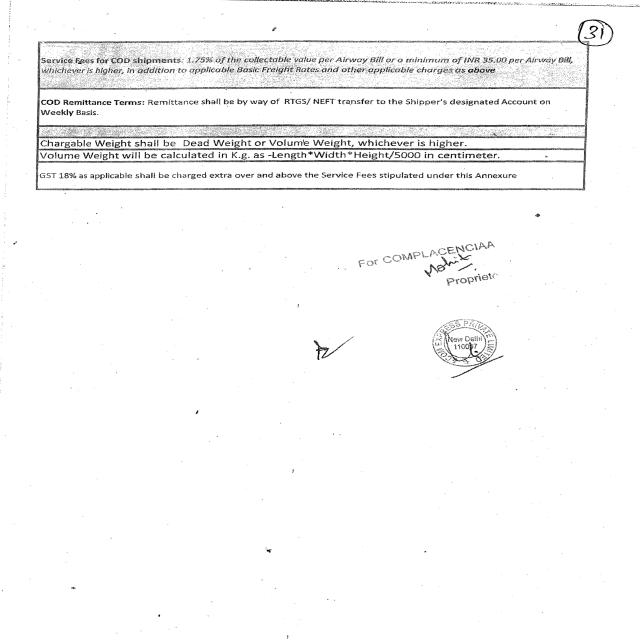page-number: (576, 10, 640, 89)
